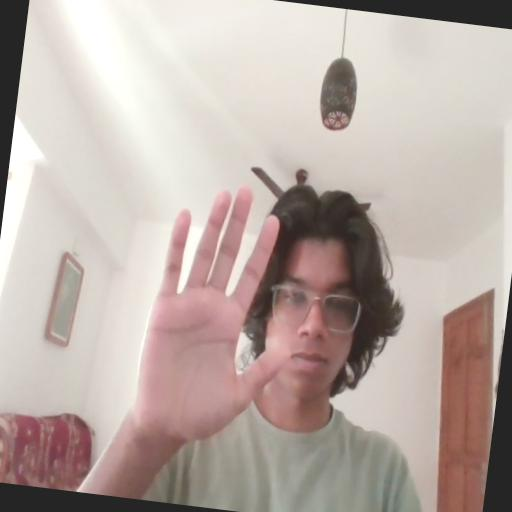Paper: (128, 178, 310, 476)
